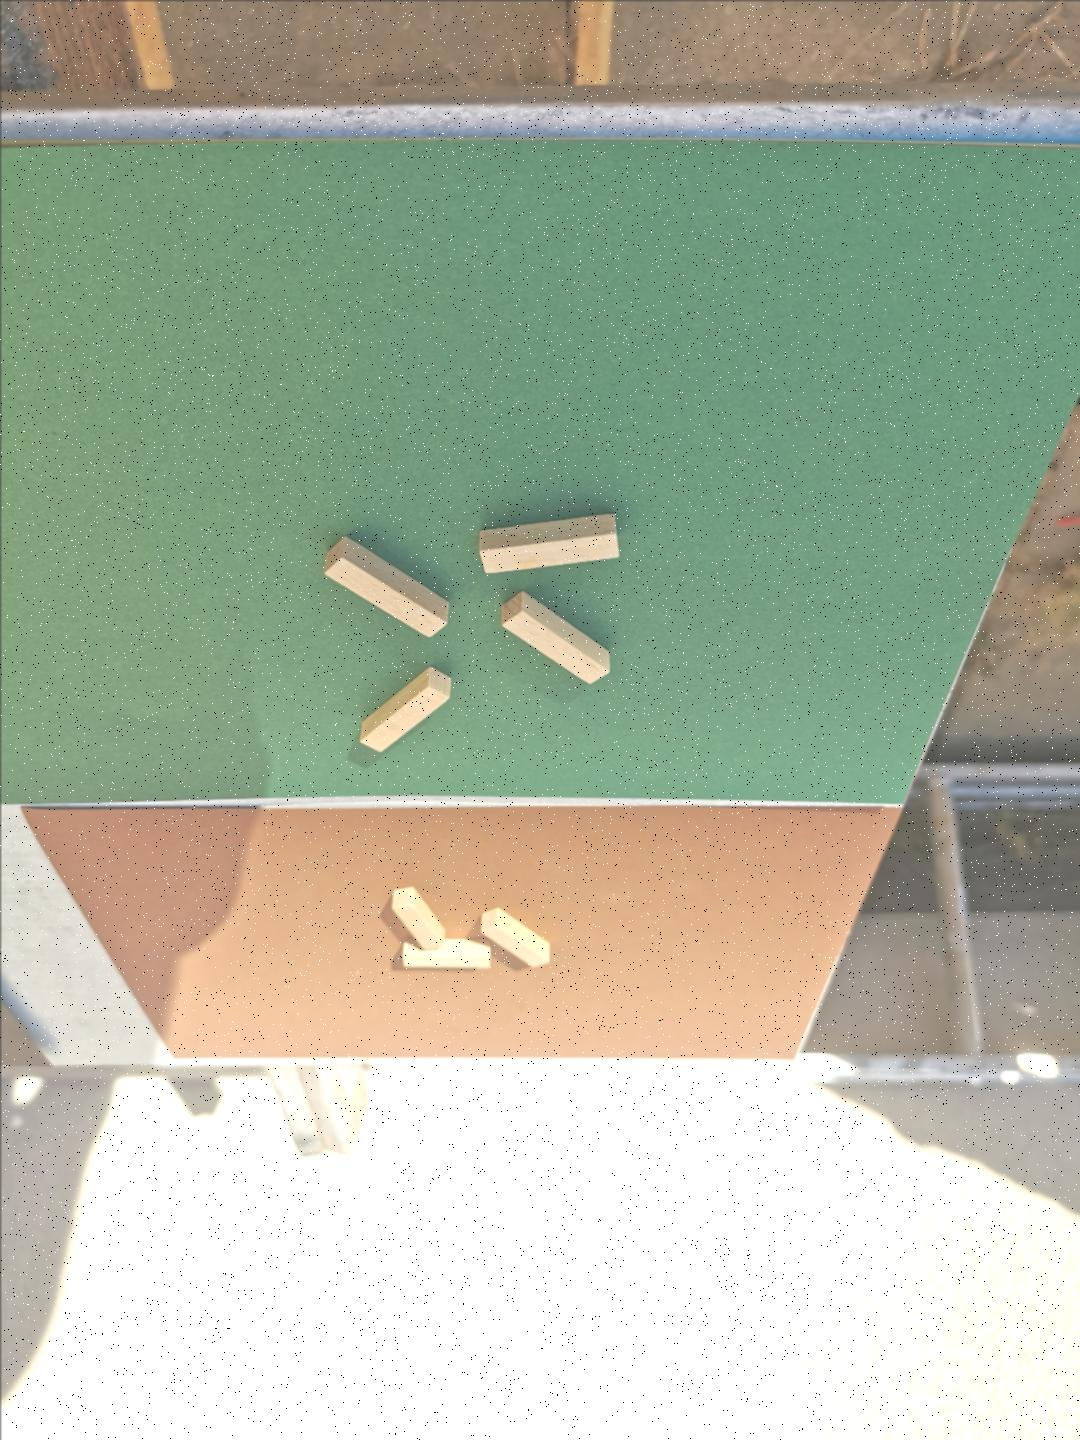jenga: (323, 537, 447, 636), (500, 591, 610, 684), (478, 511, 618, 571), (357, 667, 450, 751), (481, 908, 548, 967), (391, 886, 445, 948), (403, 937, 489, 967)
